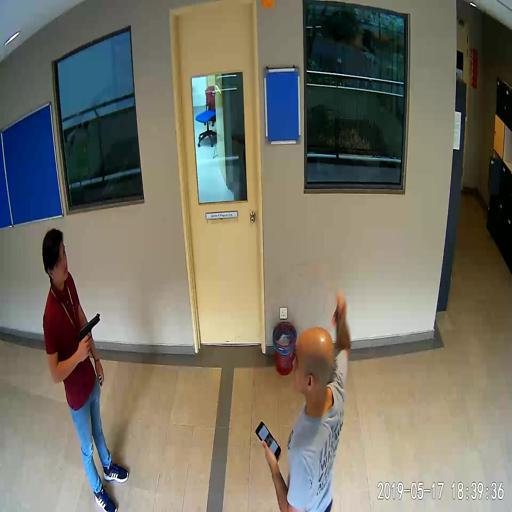pistol: (79, 312, 99, 354)
